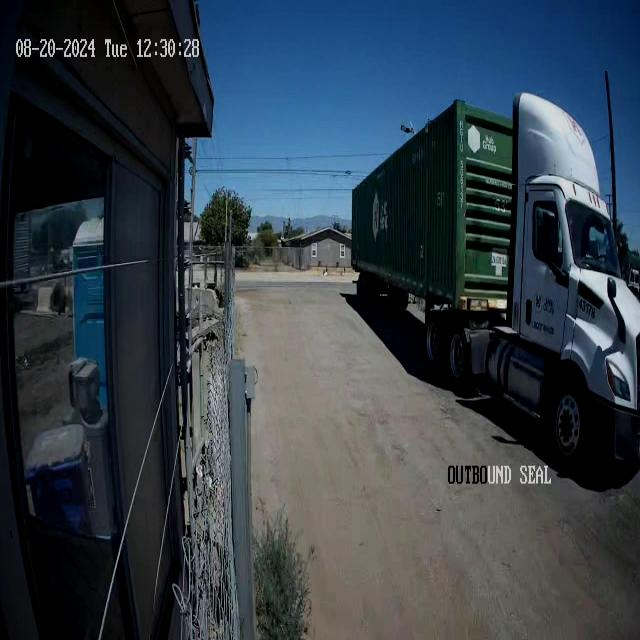CONTAINER: (350, 89, 513, 316)
